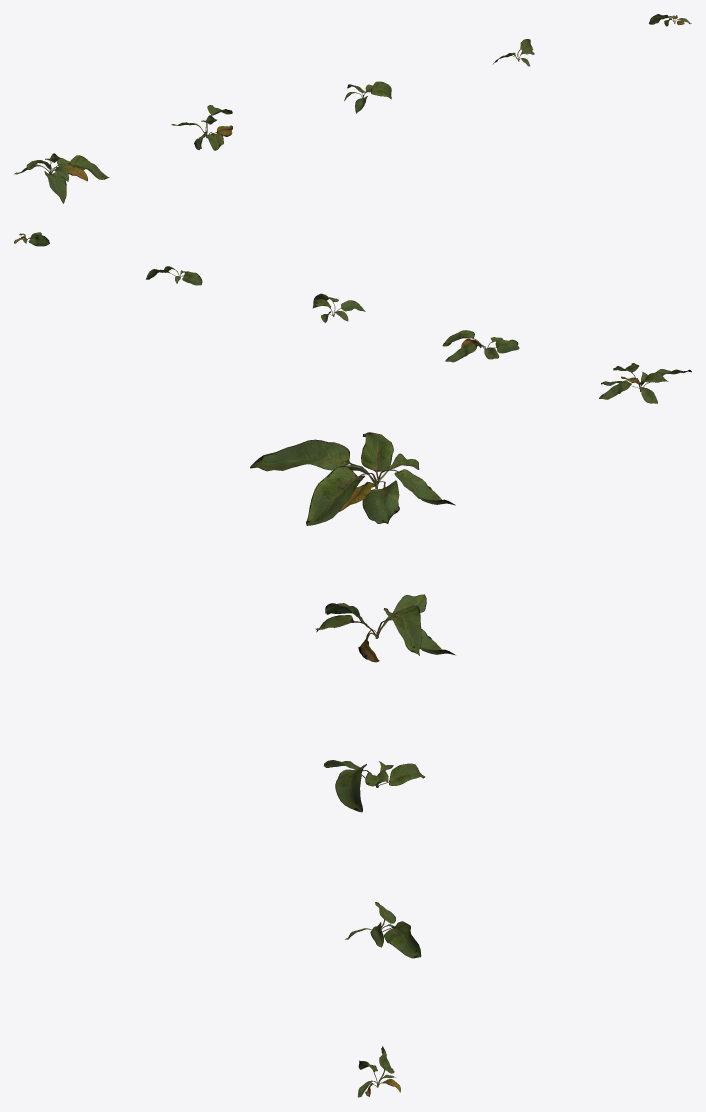
Rendered from weed_plant_02.glb.
3 renders of one model, top to bottom at view 1: azimuth 30°, elevation 25°; view 2: azimuth 150°, elevation 25°; view 3: azimuth 270°, elevation 25°, orthographic. The views are drawn at different scales.
Parts seen in each view (by area): view 1: weed_plant_02_a_LOD0, weed_plant_02_b_LOD0, weed_plant_02_c_LOD0, weed_plant_02_d_LOD0; view 2: weed_plant_02_a_LOD0, weed_plant_02_b_LOD0, weed_plant_02_c_LOD0, weed_plant_02_d_LOD0, weed_plant_02_e_LOD0; view 3: weed_plant_02_a_LOD0, weed_plant_02_b_LOD0, weed_plant_02_c_LOD0, weed_plant_02_d_LOD0.
Boxes of the visible parts, x1,y1,x2,y2 form: weed_plant_02_a_LOD0: (14, 153, 109, 203); weed_plant_02_b_LOD0: (171, 105, 232, 150); weed_plant_02_c_LOD0: (344, 81, 391, 113); weed_plant_02_d_LOD0: (493, 39, 534, 66); weed_plant_02_a_LOD0: (599, 363, 691, 403); weed_plant_02_b_LOD0: (442, 330, 519, 362); weed_plant_02_c_LOD0: (312, 293, 365, 322); weed_plant_02_d_LOD0: (146, 266, 202, 285); weed_plant_02_e_LOD0: (14, 232, 49, 246); weed_plant_02_a_LOD0: (250, 432, 455, 525); weed_plant_02_b_LOD0: (315, 594, 455, 662); weed_plant_02_c_LOD0: (324, 760, 425, 812); weed_plant_02_d_LOD0: (345, 902, 421, 958).
Size of the model in its own units: 2.13 by 0.0751 by 0.2909.
1 material, 1 textured.
